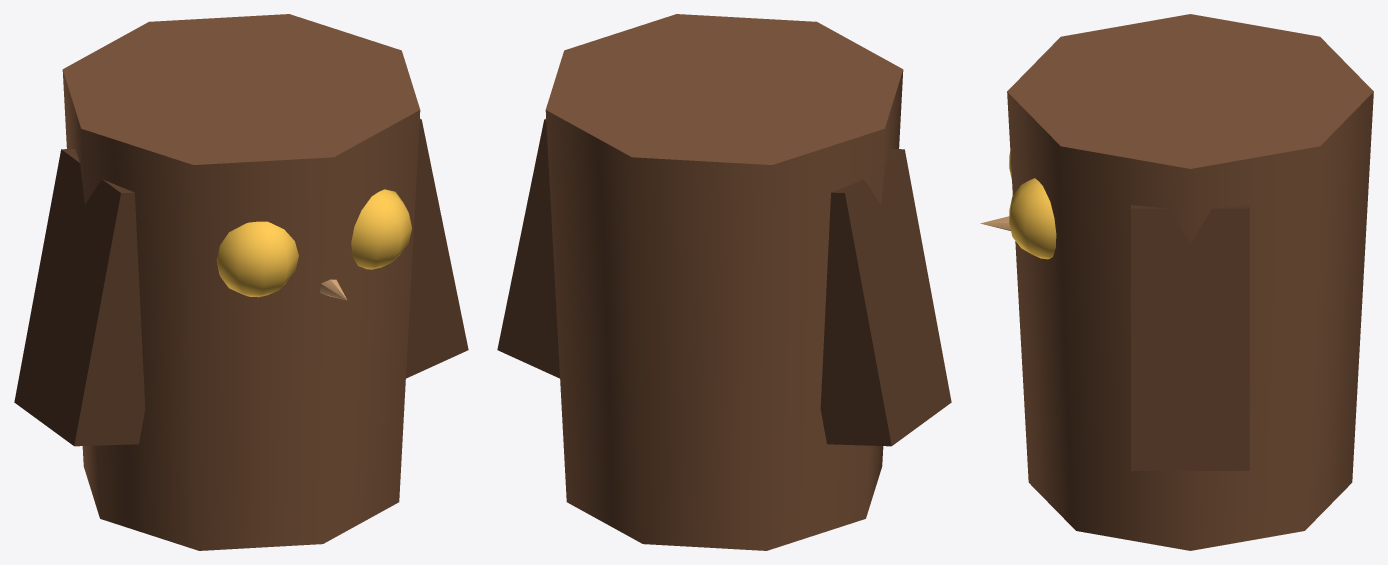
The model's file is mochuelo.glb.
3 views of the same model, side by side, from view 1: azimuth 30°, elevation 25°; view 2: azimuth 150°, elevation 25°; view 3: azimuth 270°, elevation 25° (orthographic).
Visible parts, largest first — view 1: Body; view 2: Body; view 3: Body.
Boxes of the visible parts, x1,y1,x2,y2 form: Body: (14,14,468,550); Body: (497,14,951,550); Body: (980,14,1373,550).
Bounding box in the file's own units: 0.8365 × 0.8 × 0.73.
